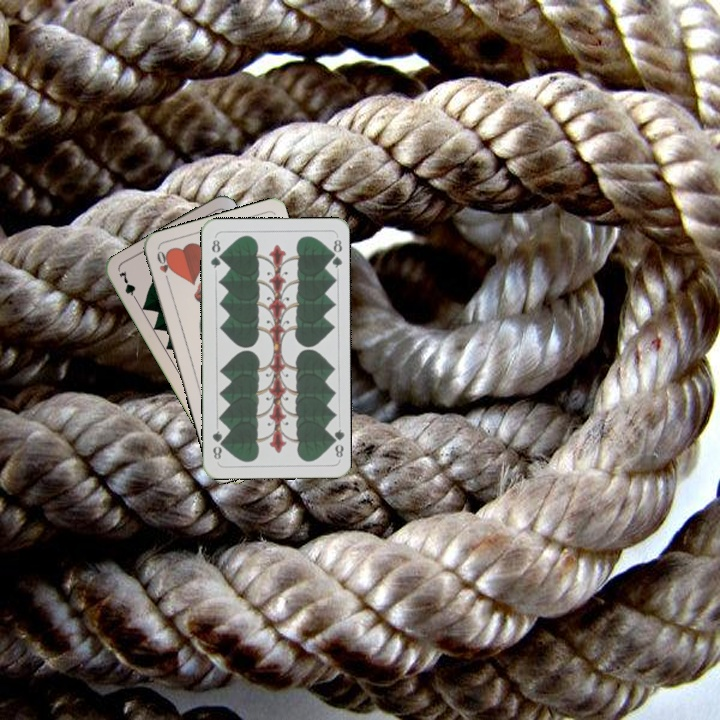G7: (115, 267, 141, 306)
G8: (326, 425, 346, 460), (206, 233, 224, 271)
HO: (153, 247, 173, 286)
